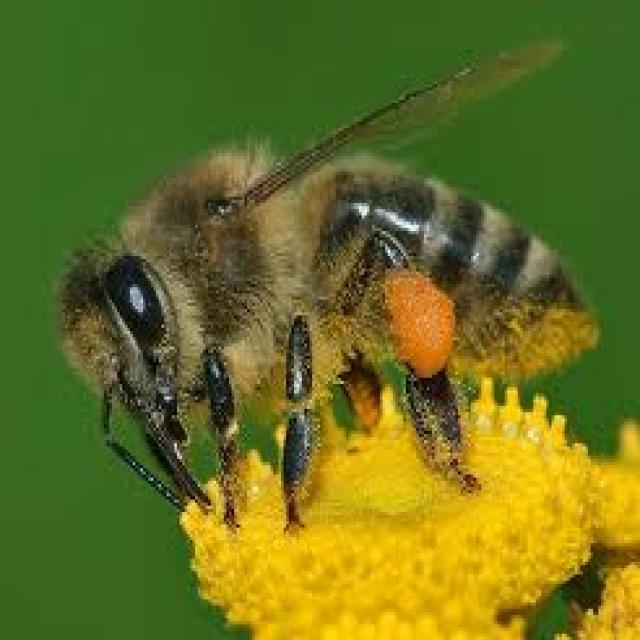Bees: (58, 39, 599, 534)
